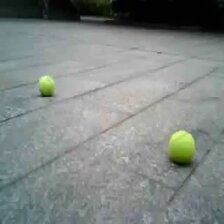tennis: (167, 132, 196, 163), (38, 75, 54, 96)
